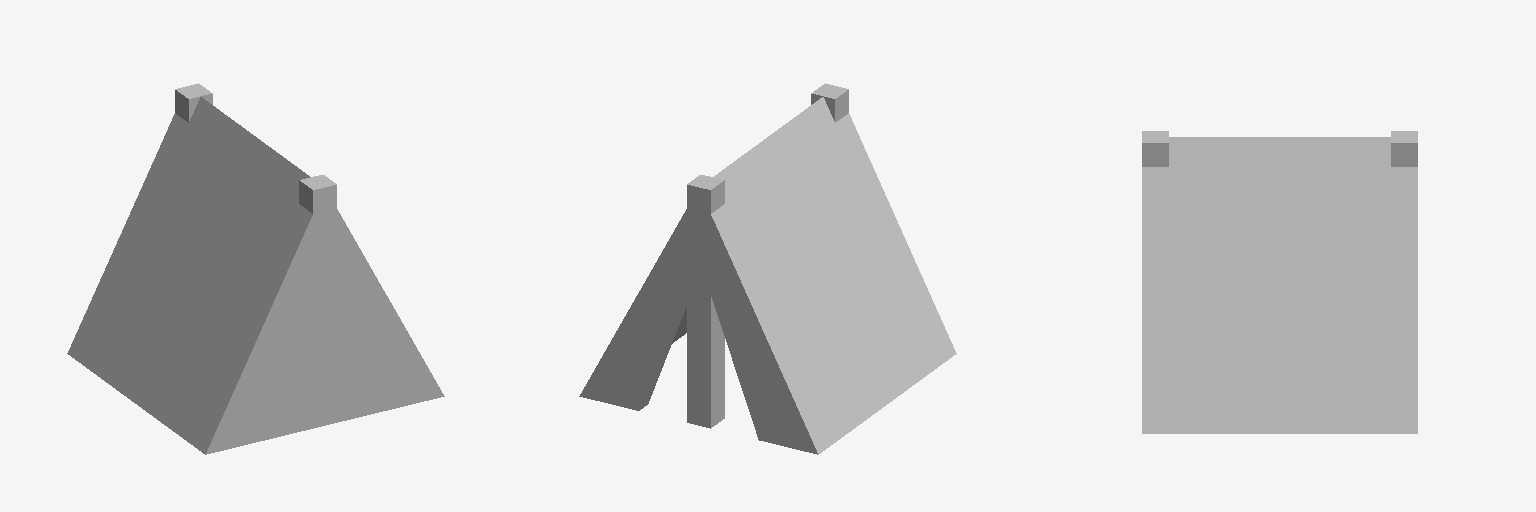
The model's file is Tent_Poles_01.obj.
3 views of the same model, side by side, from view 1: azimuth 30°, elevation 25°; view 2: azimuth 150°, elevation 25°; view 3: azimuth 270°, elevation 25° (orthographic).
Size of the model in its own units: 3 by 2.85 by 3.